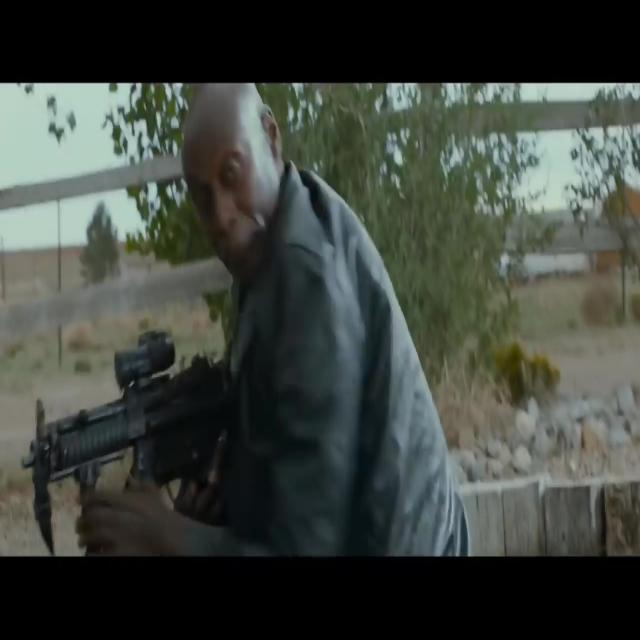Weapon: (4, 315, 332, 565)
